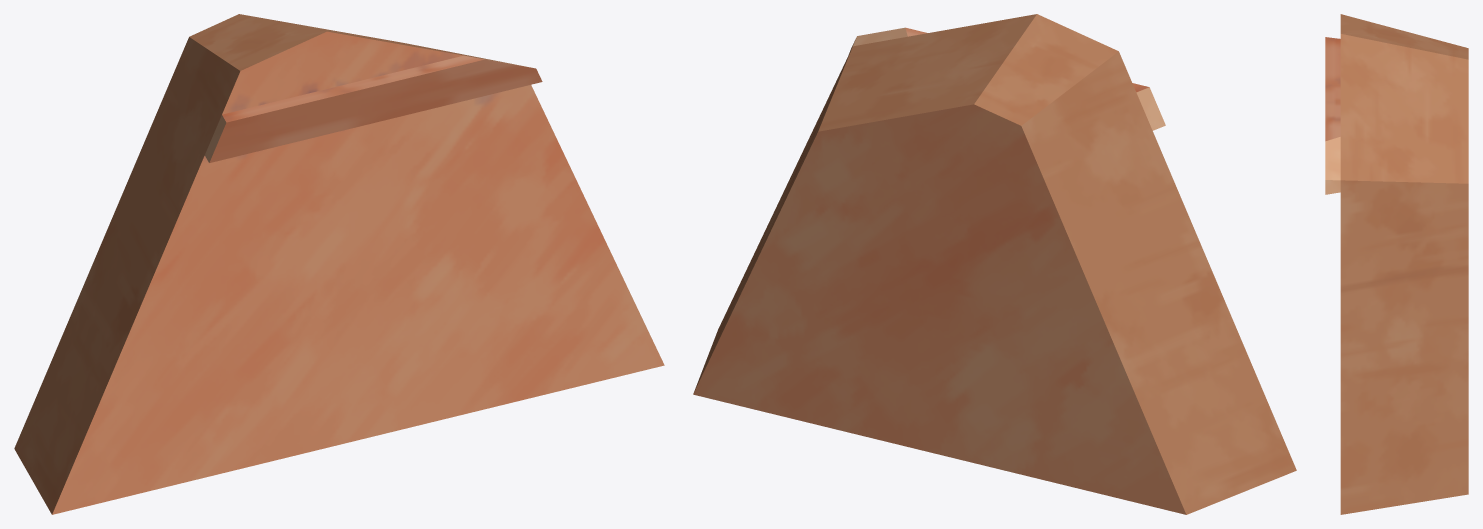
Rendered from wall2_upper_window_s10.fbx.
3 renders of one model, left to right at view 1: azimuth 30°, elevation 25°; view 2: azimuth 150°, elevation 25°; view 3: azimuth 270°, elevation 25°, orthographic. The views are drawn at different scales.
Parts seen in each view (by area): view 1: wall2_upper_window_s10; view 2: wall2_upper_window_s10; view 3: wall2_upper_window_s10.
Part boxes in pixels (<box>): wall2_upper_window_s10: <box>14,14,664,514</box>; wall2_upper_window_s10: <box>693,14,1296,514</box>; wall2_upper_window_s10: <box>1325,14,1468,514</box>.
Bounding box in the file's own units: 4.57 × 2.97 × 1.12.
